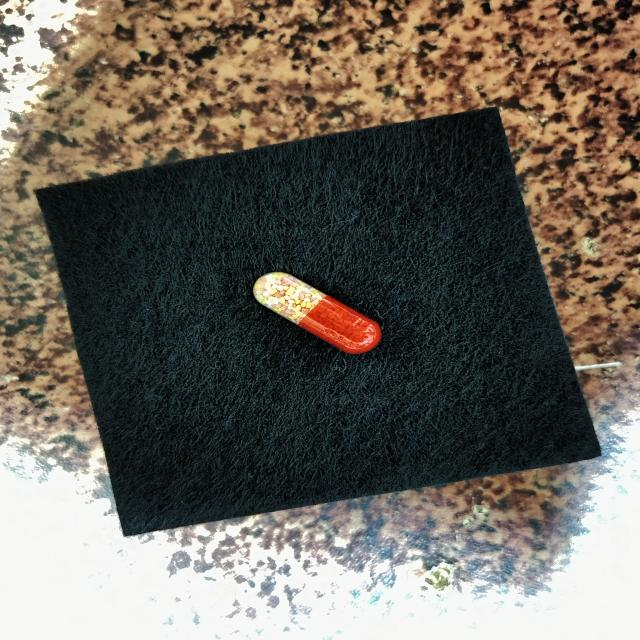Intact Capsule: (253, 272, 382, 354)
